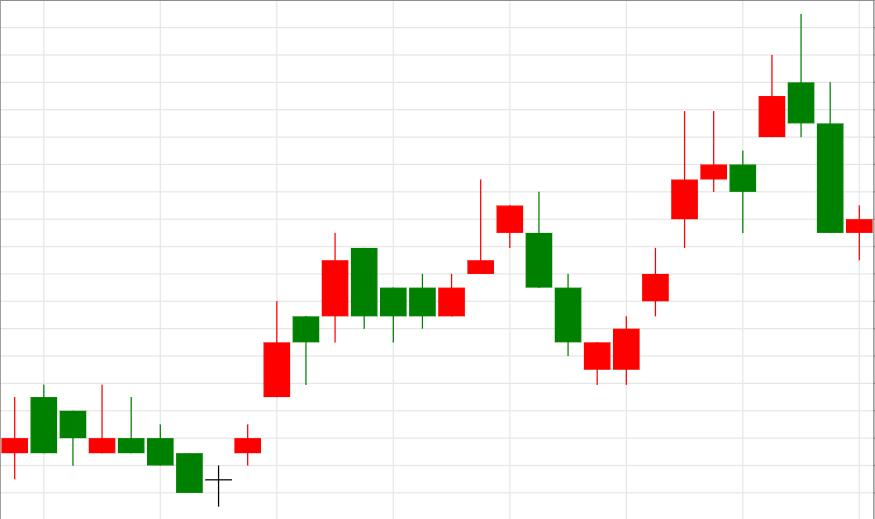shooting_star_fall: (612, 15, 815, 385)
